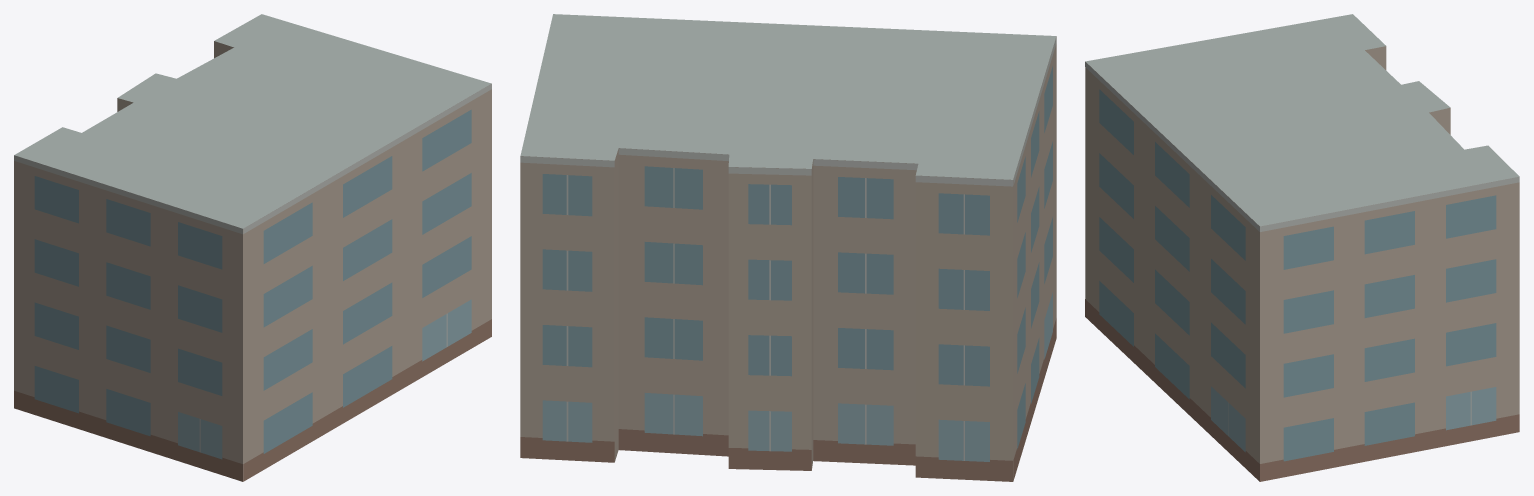
File: survey-upis-32589574.glb
3 views of the same model, side by side, from view 1: azimuth 30°, elevation 25°; view 2: azimuth 150°, elevation 25°; view 3: azimuth 270°, elevation 25° (orthographic). The views are drawn at different scales.
Visible parts, largest first — view 1: survey-upis-32589574.tmp; view 2: survey-upis-32589574.tmp; view 3: survey-upis-32589574.tmp.
Part boxes in pixels (left/top/right/bottom): survey-upis-32589574.tmp: left=14, top=14, right=491, bottom=481; survey-upis-32589574.tmp: left=520, top=14, right=1056, bottom=481; survey-upis-32589574.tmp: left=1085, top=14, right=1519, bottom=481.
Bounding box in the file's own units: 19.64 × 11 × 16.97.
